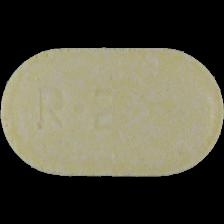55111-263: (0, 0, 224, 224)
